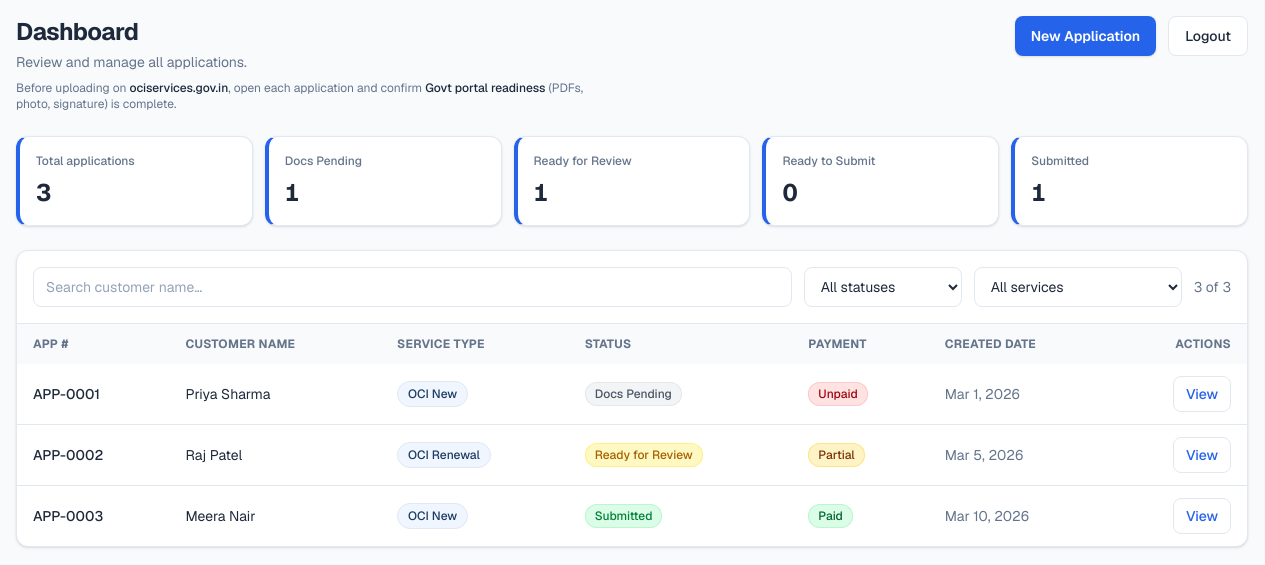
Test: Dashboard › Test 4: Search filter works
Expected: the text "Priya Sharma" is shown, [170,364,381,424]
Type "priya" into the field named "Search by customer name". click: (412, 287)
box: [33,267,792,307]
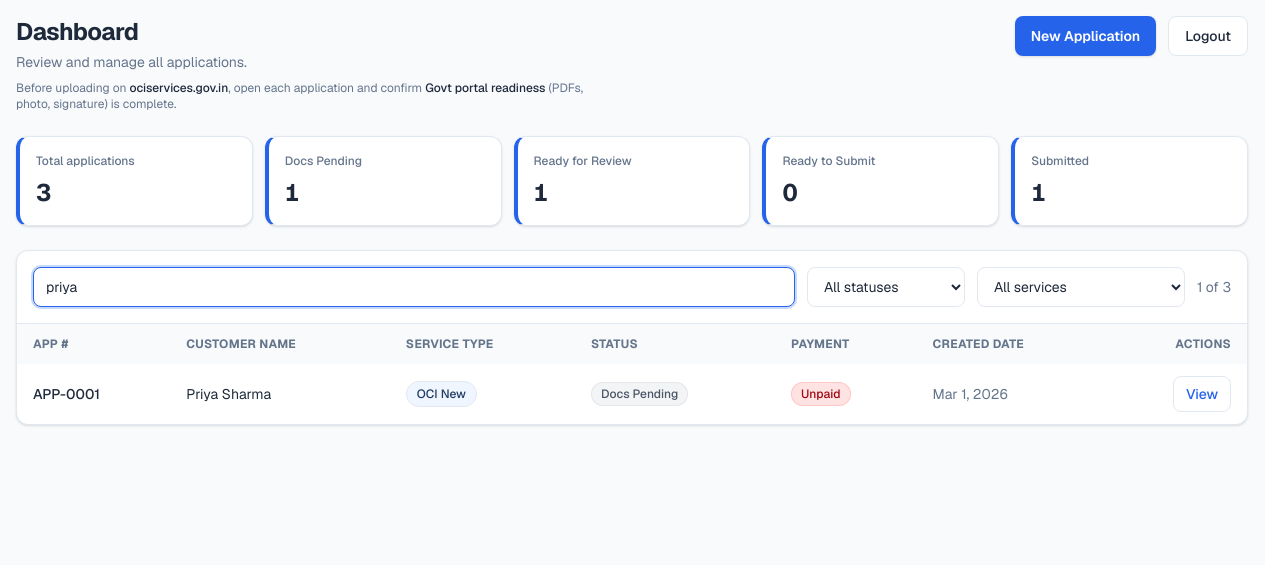
Expected: the text "Priya Sharma" is shown, [170,364,390,424]
Expected: the text "Raj Patel" is gone
Expected: the text "Meera Nair" is gone
